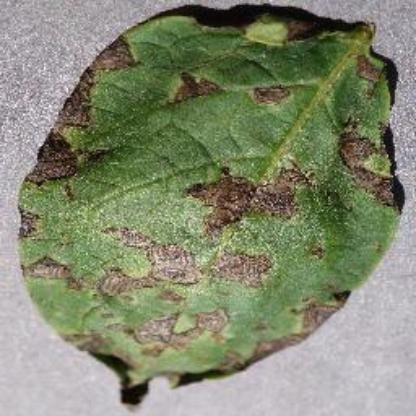Early-Blight: (17, 3, 416, 407)
